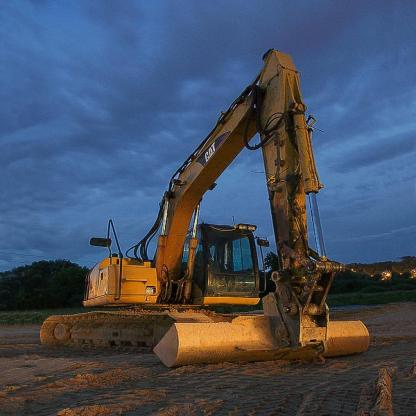excavator: (15, 38, 381, 369)
